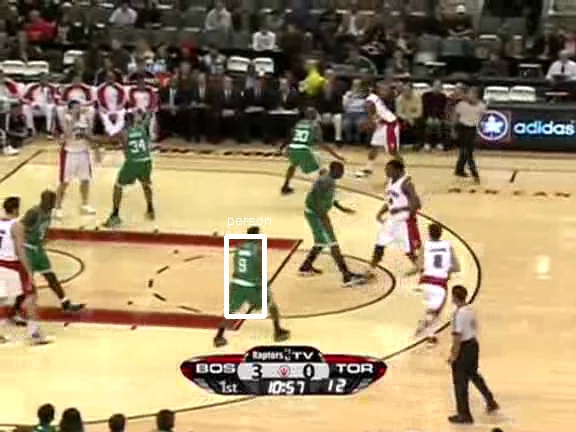person: (233, 238, 267, 319), (232, 238, 266, 319), (234, 238, 268, 319), (233, 237, 267, 318), (233, 239, 267, 320)
target_negative: (233, 116, 355, 268), (426, 62, 526, 160), (423, 206, 443, 388), (185, 120, 572, 127), (395, 114, 408, 175), (455, 311, 460, 318)
